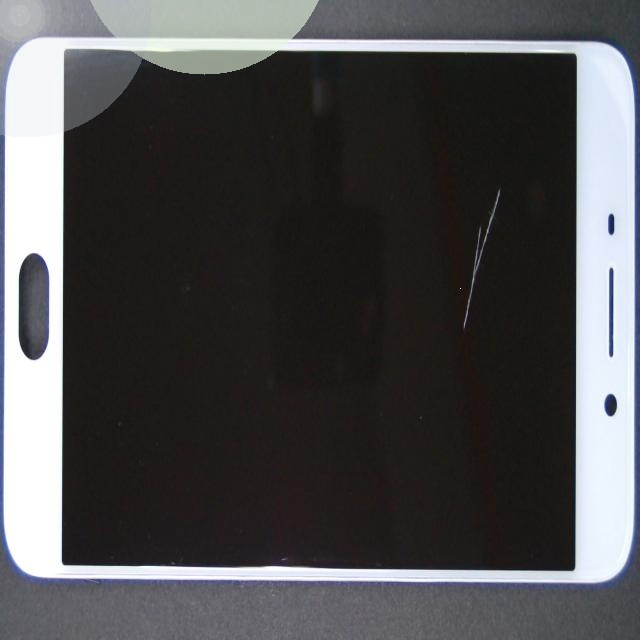scratch: (229, 166, 640, 502)
